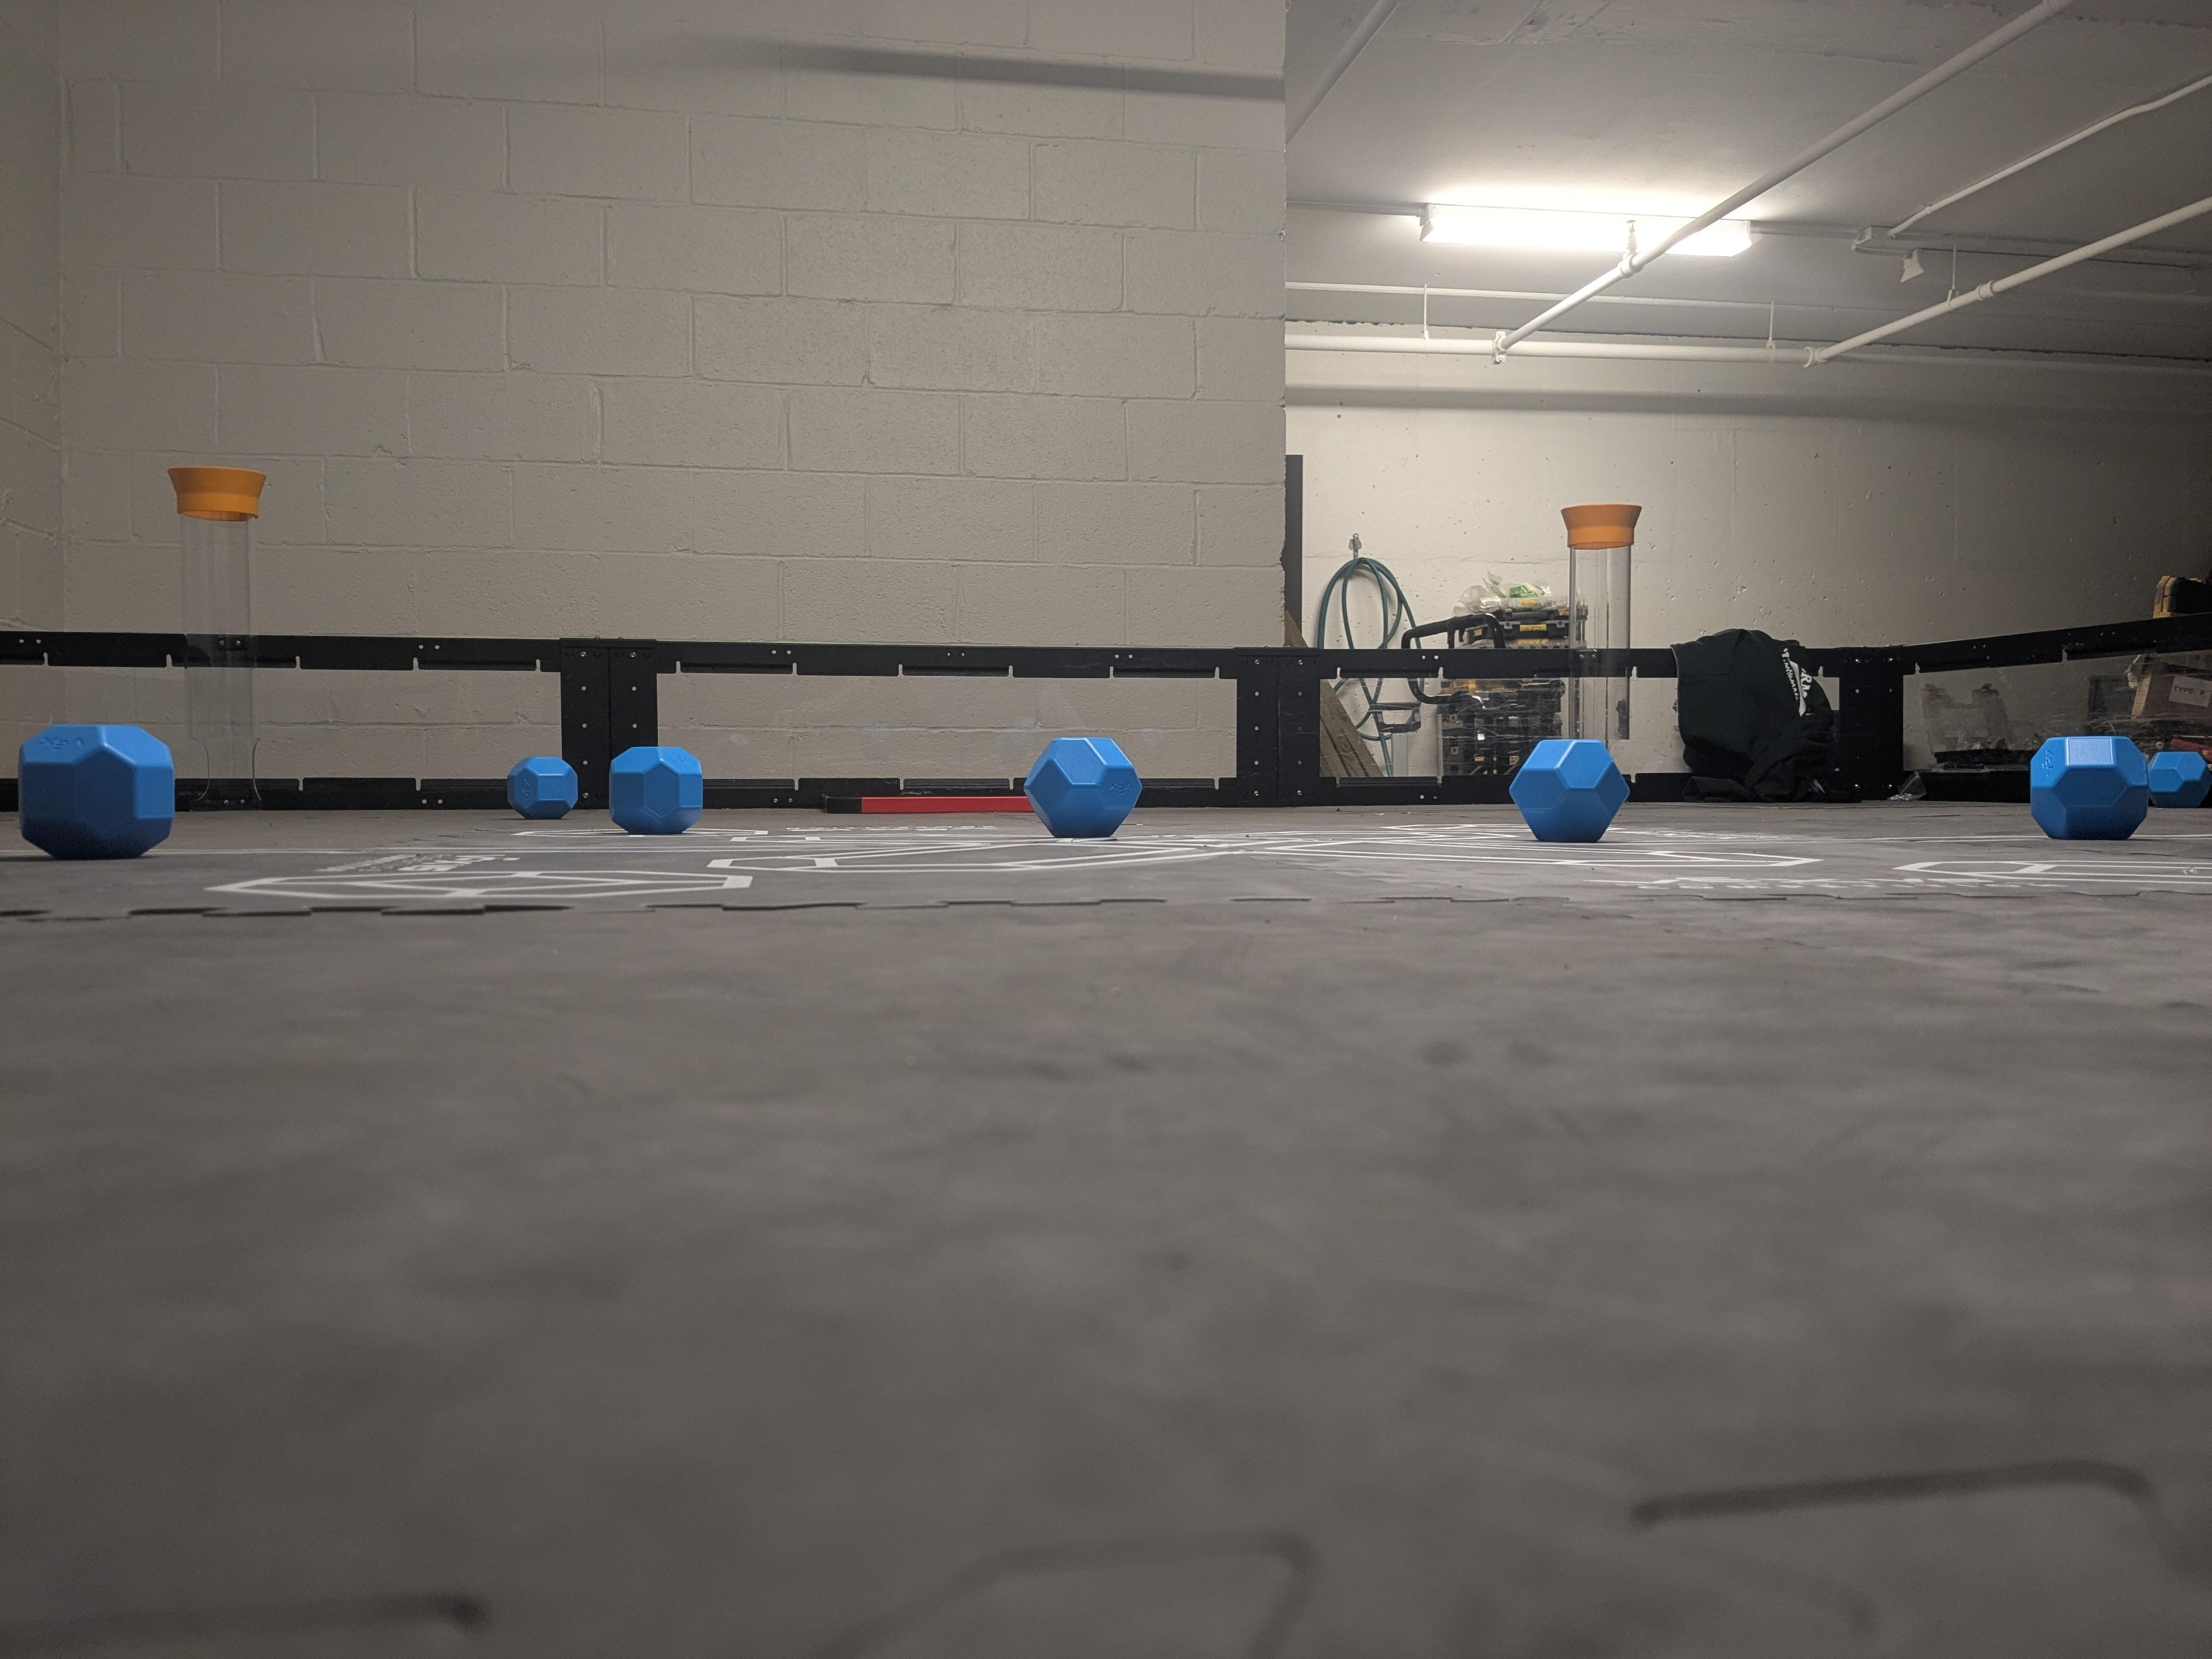Vex-Pieces-BLUE: (21, 723, 176, 857), (2027, 735, 2207, 838), (1514, 739, 1627, 836), (1026, 739, 1137, 835), (608, 746, 700, 835), (503, 758, 577, 824)
